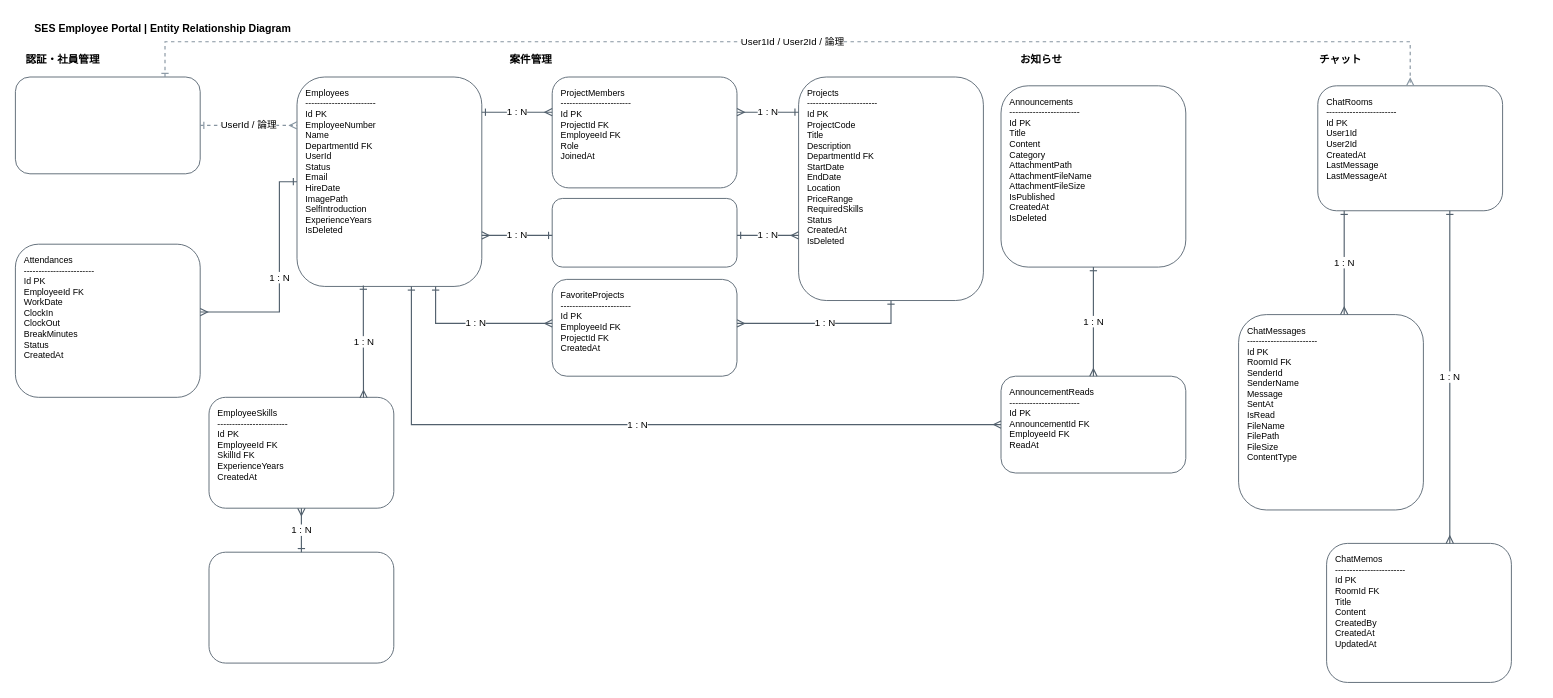
The diagram is 1553 pixels wide and 698 high, and some of its shapes have lost their labels. Each missing label, with the centre of its shape:
"AspNetUsers ------------------------ Id PK UserName Email PasswordHash" goes at (x=107, y=125).
"Departments ------------------------ Id PK Name" goes at (x=644, y=232).
"Skills ------------------------ Id PK Name Category SortOrder IsActive" goes at (x=301, y=607).
